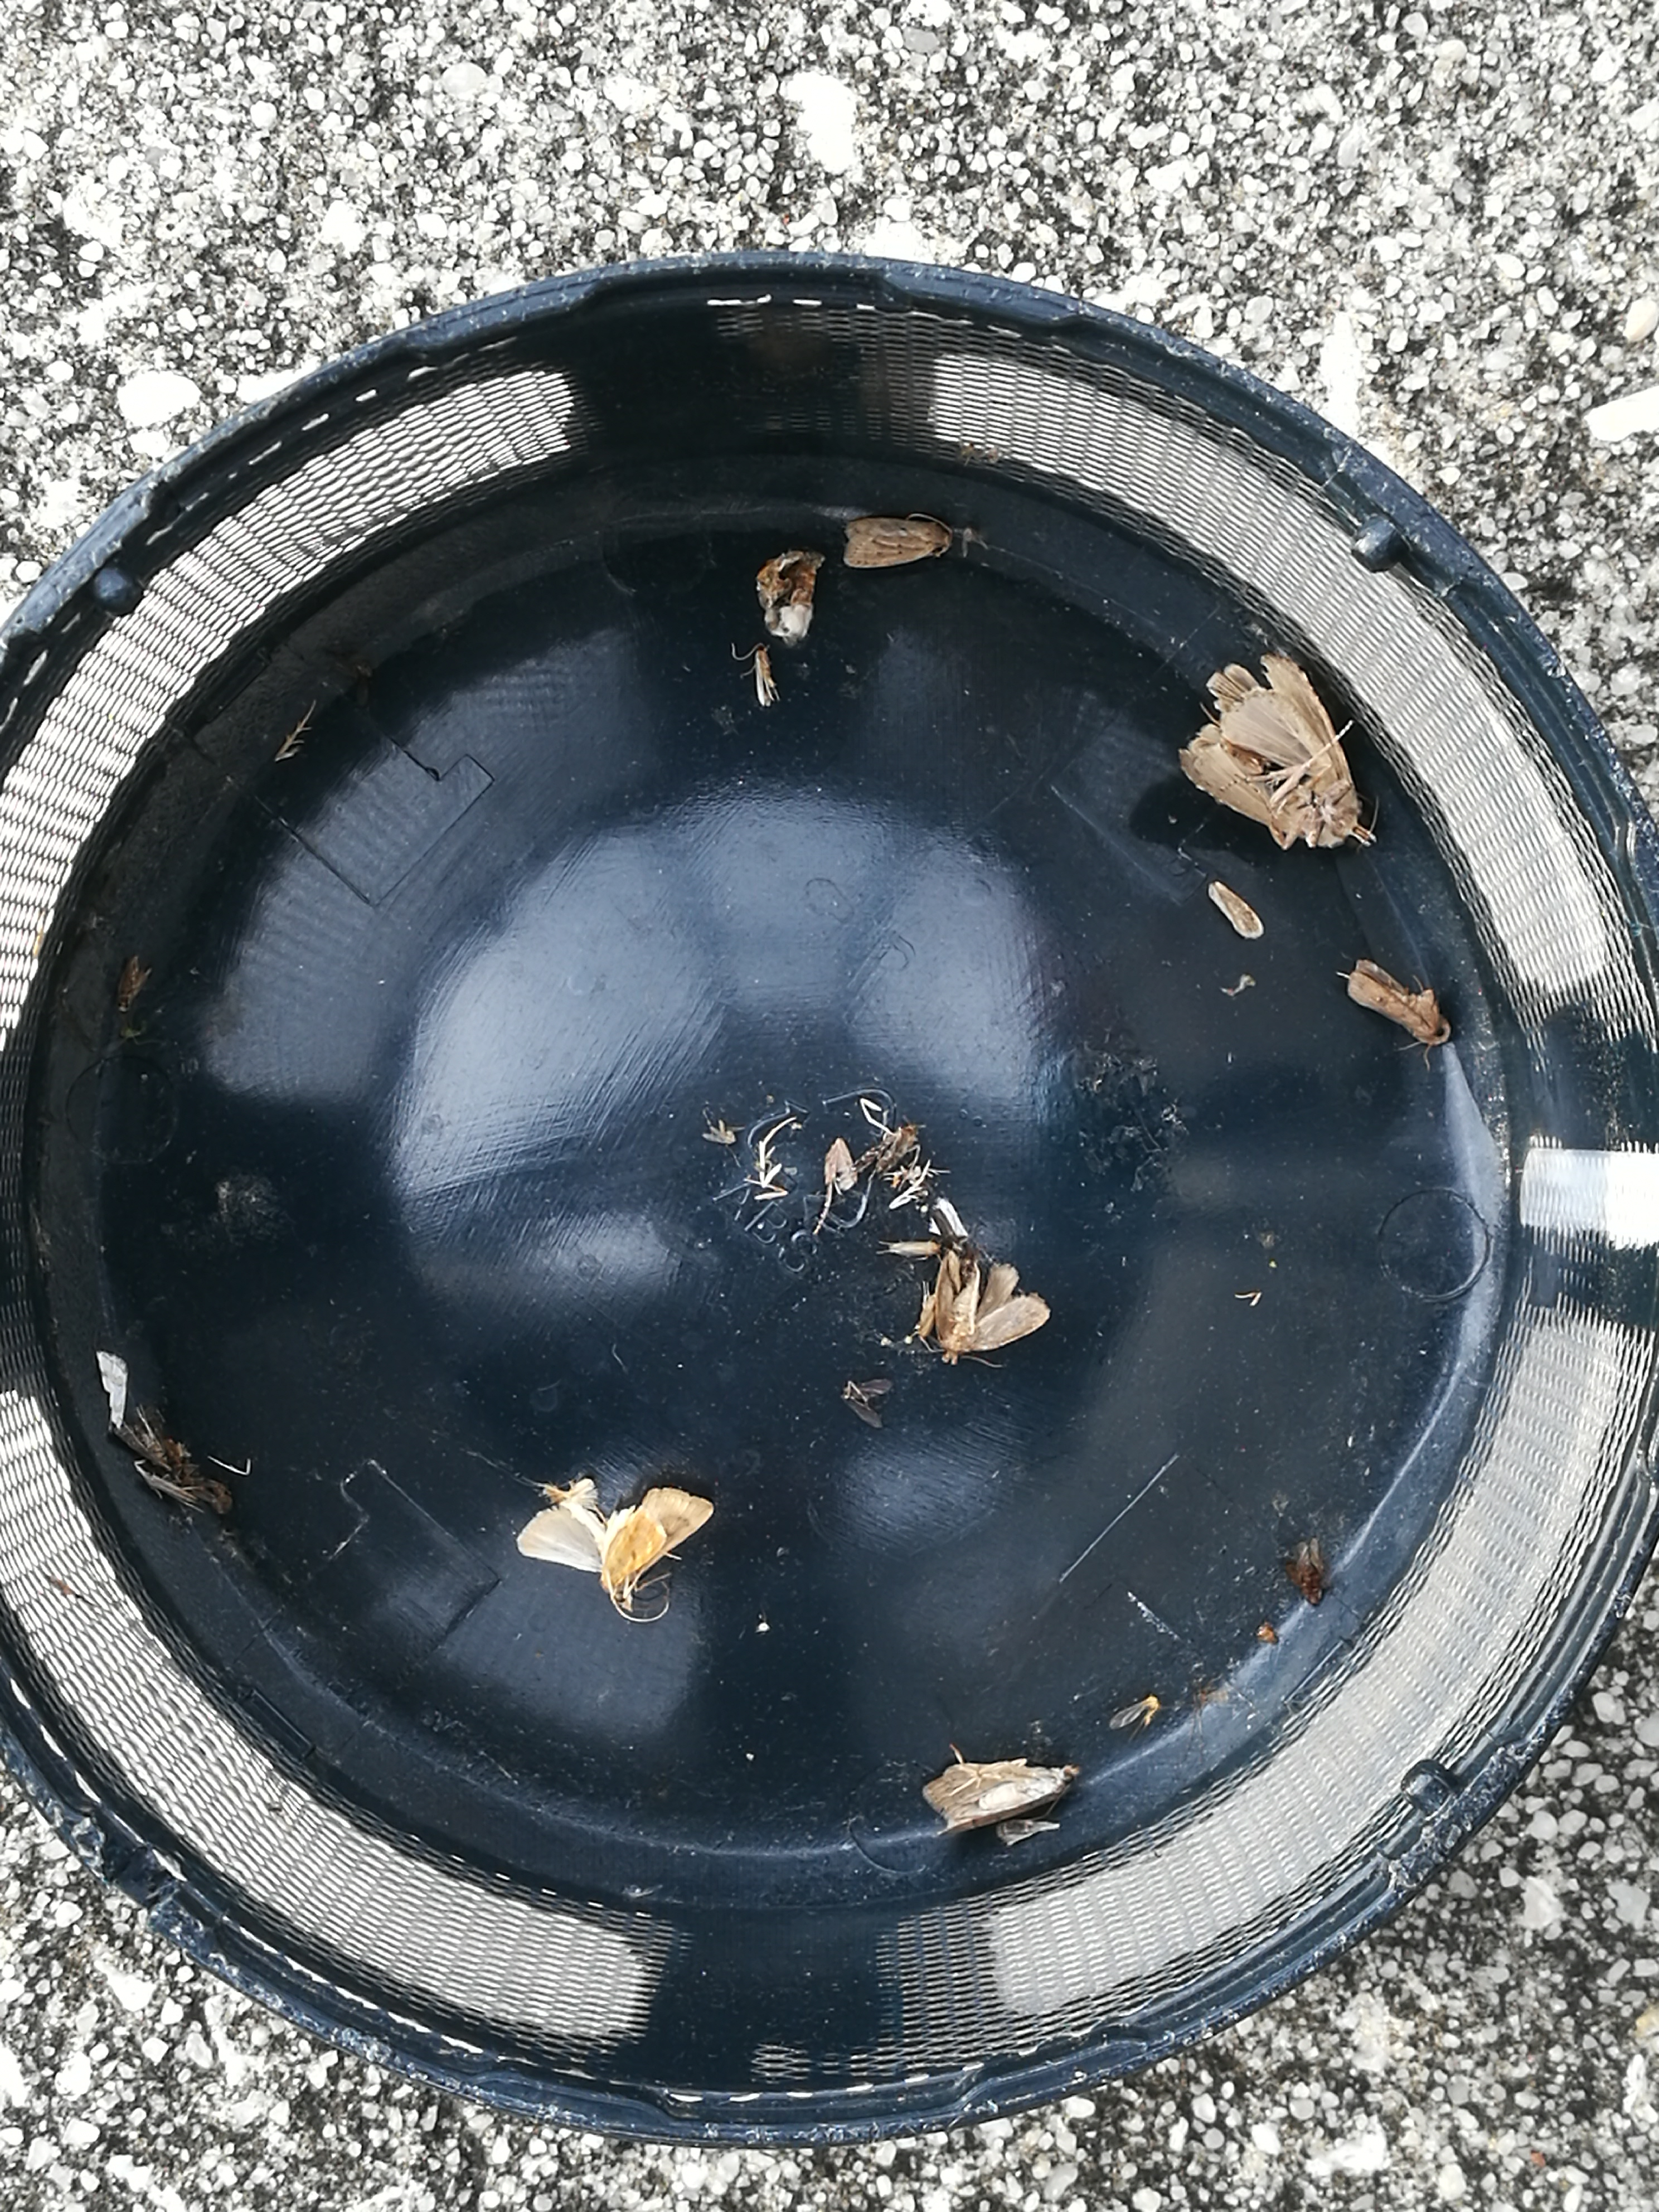moth: (1180, 653, 1358, 846), (516, 1489, 714, 1609), (934, 1259, 1049, 1353), (924, 1764, 1077, 1832), (1349, 960, 1452, 1047), (843, 521, 950, 568)
